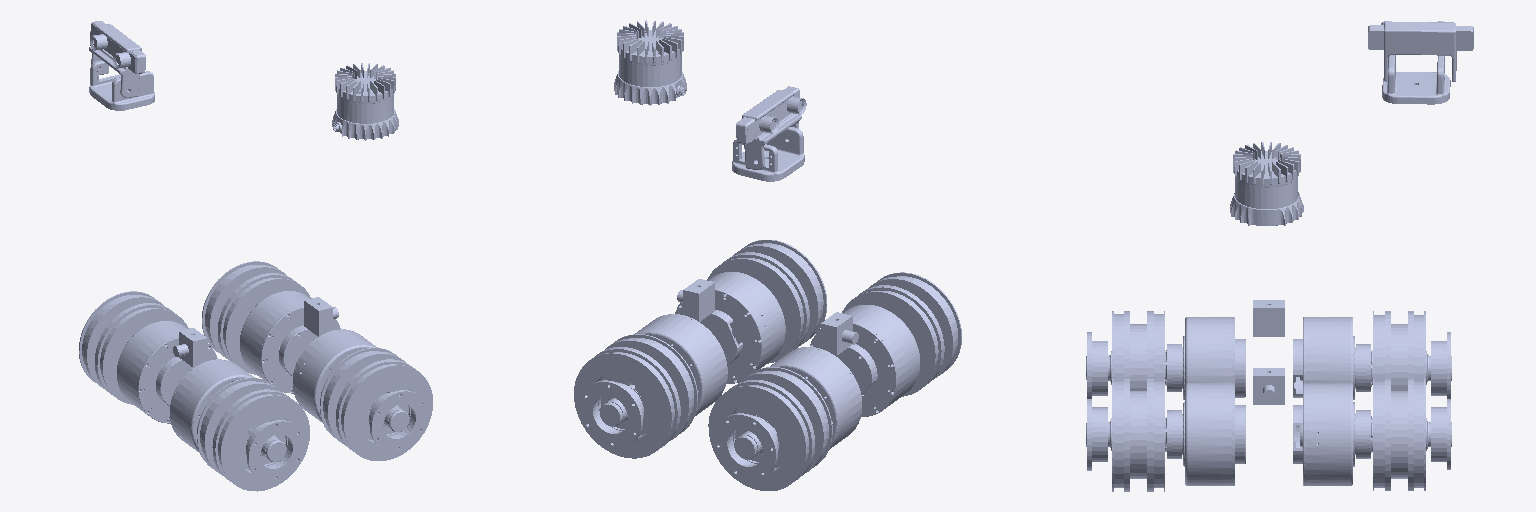
URDF robot description (arm_gazebo):
<robot
  name="arm_gazebo">
  <link name="world">
  <!-- No inertial or visual components -->
  </link>

<!-- Joint connecting world to base_link -->
  <joint name="fixed_joint" type="fixed">
    <parent link="world"/>
    <child link="base_link"/>
    <origin xyz="0 0 0.4" rpy="0 0 0"/>
  </joint>

<!-- Original base_link definition -->
  <link name="base_link">
      <inertial>
        <origin xyz="-0.166544779785204 -0.0149685354954151 -0.175639363682585" rpy="0 0 0" />
        <mass value="150.738658762702" />
        <inertia ixx="1.45050599145453" ixy="0.0257841558527573" ixz="0.0141341146579768"
                iyy="0.53799497159813" iyz="-0.0167036000868276" izz="1.75207985844135" />
      </inertial>
      <visual>
        <origin xyz="0 0 0" rpy="0 0 0" />
        <geometry>
          <mesh filename="package://panda_description/meshes/arm_crawer_meshes/visual/base_link.dae" />
        </geometry>
        <material name="">
          <color rgba="0.792156862745098 0.819607843137255 0.933333333333333 1" />
        </material>
      </visual>
      <collision>
        <origin xyz="0 0 0" rpy="0 0 0" />
        <geometry>
          <mesh filename="package://panda_description/meshes/arm_crawer_meshes/collision/base_link.stl" />
        </geometry>
      </collision>
  </link>
  <link
    name="link_1">
    <inertial>
      <origin
        xyz="2.5713776339753E-05 -0.112526124429538 7.18011637226429E-05"
        rpy="0 0 0" />
      <mass
        value="140.357056498504" />
      <inertia
        ixx="0.156349262310722"
        ixy="0.000120004558843799"
        ixz="-0.000132718117351556"
        iyy="0.269360886360984"
        iyz="-1.4344844220023E-05"
        izz="0.155458190090457" />
    </inertial>
    <visual>
      <origin
        xyz="0 0 0"
        rpy="0 0 0" />
      <geometry>
        <mesh
          filename="package://panda_description/meshes/arm_crawer_meshes/visual/link_1.dae" />
      </geometry>
      <material
        name="">
        <color
          rgba="0.792156862745098 0.819607843137255 0.933333333333333 1" />
      </material>
    </visual>
    <collision>
      <origin
        xyz="0 0 0"
        rpy="0 0 0" />
      <geometry>
        <mesh
          filename="package://panda_description/meshes/arm_crawer_meshes/collision/link_1.stl" />
      </geometry>
    </collision>
  </link>
  <joint
    name="right_front_wheel"
    type="continuous">
    <origin
      xyz="-0.25584 0.030598 -0.31908"
      rpy="0 -0.42439 3.1416" />
    <parent
      link="base_link" />
    <child
      link="link_1" />
    <axis
      xyz="0 1 0" />
    <limit
      lower="0"
      upper="6.24"
      effort="10"
      velocity="10" />
  </joint>
  <link
    name="link_2">
    <inertial>
      <origin
        xyz="2.57137762453112E-05 -0.112526124428818 7.18011636879901E-05"
        rpy="0 0 0" />
      <mass
        value="140.357056499415" />
      <inertia
        ixx="0.15634926231084"
        ixy="0.000120004558878933"
        ixz="-0.000132718117466613"
        iyy="0.269360886361404"
        iyz="-1.43448442214138E-05"
        izz="0.155458190090766" />
    </inertial>
    <visual>
      <origin
        xyz="0 0 0"
        rpy="0 0 0" />
      <geometry>
        <mesh
          filename="package://panda_description/meshes/arm_crawer_meshes/visual/link_2.dae" />
      </geometry>
      <material
        name="">
        <color
          rgba="0.792156862745098 0.819607843137255 0.933333333333333 1" />
      </material>
    </visual>
    <collision>
      <origin
        xyz="0 0 0"
        rpy="0 0 0" />
      <geometry>
        <mesh
          filename="package://panda_description/meshes/arm_crawer_meshes/collision/link_2.stl" />
      </geometry>
    </collision>
  </link>
  <joint
    name="right_back_wheel"
    type="continuous">
    <origin
      xyz="-0.070756 0.030598 -0.31908"
      rpy="0 0.21622 3.1416" />
    <parent
      link="base_link" />
    <child
      link="link_2" />
    <axis
      xyz="0 1 0" />
    <limit
      lower="0"
      upper="6.24"
      effort="10"
      velocity="10" />
  </joint>
  <link
    name="link_3">
    <inertial>
      <origin
        xyz="2.5713776181796E-05 -0.112526124428283 7.18011637134697E-05"
        rpy="0 0 0" />
      <mass
        value="140.357056500094" />
      <inertia
        ixx="0.156349262310969"
        ixy="0.00012000455890453"
        ixz="-0.000132718117407678"
        iyy="0.26936088636172"
        iyz="-1.43448442265719E-05"
        izz="0.155458190090957" />
    </inertial>
    <visual>
      <origin
        xyz="0 0 0"
        rpy="0 0 0" />
      <geometry>
        <mesh
          filename="package://panda_description/meshes/arm_crawer_meshes/visual/link_3.dae" />
      </geometry>
      <material
        name="">
        <color
          rgba="0.792156862745098 0.819607843137255 0.933333333333333 1" />
      </material>
    </visual>
    <collision>
      <origin
        xyz="0 0 0"
        rpy="0 0 0" />
      <geometry>
        <mesh
          filename="package://panda_description/meshes/arm_crawer_meshes/collision/link_3.stl" />
      </geometry>
    </collision>
  </link>
  <joint
    name="left_front_wheel"
    type="continuous">
    <origin
      xyz="-0.25584 -0.024997 -0.31908"
      rpy="0 -0.76081 0" />
    <parent
      link="base_link" />
    <child
      link="link_3" />
    <axis
      xyz="0 1 0" />
    <limit
      lower="0"
      upper="6.24"
      effort="10"
      velocity="10" />
  </joint>
  <link
    name="link_4">
    <inertial>
      <origin
        xyz="2.57137761885406E-05 -0.112526124428341 7.18011637099447E-05"
        rpy="0 0 0" />
      <mass
        value="140.357056500021" />
      <inertia
        ixx="0.156349262310955"
        ixy="0.000120004558901742"
        ixz="-0.000132718117415487"
        iyy="0.269360886361686"
        iyz="-1.43448442256035E-05"
        izz="0.155458190090937" />
    </inertial>
    <visual>
      <origin
        xyz="0 0 0"
        rpy="0 0 0" />
      <geometry>
        <mesh
          filename="package://panda_description/meshes/arm_crawer_meshes/visual/link_4.dae" />
      </geometry>
      <material
        name="">
        <color
          rgba="0.792156862745098 0.819607843137255 0.933333333333333 1" />
      </material>
    </visual>
    <collision>
      <origin
        xyz="0 0 0"
        rpy="0 0 0" />
      <geometry>
        <mesh
          filename="package://panda_description/meshes/arm_crawer_meshes/collision/link_4.stl" />
      </geometry>
    </collision>
  </link>
  <joint
    name="left_back_wheel"
    type="continuous">
    <origin
      xyz="-0.070756 -0.024997 -0.31908"
      rpy="0 0.30744 0" />
    <parent
      link="base_link" />
    <child
      link="link_4" />
    <axis
      xyz="0 1 0" />
    <limit
      lower="0"
      upper="6.24"
      effort="10"
      velocity="10" />
  </joint>


<!-- Link5 motor1 -->


  <link
    name="link_5">
    <inertial>
      <origin
        xyz="-0.0200799823614145 -3.20495466103743E-05 0.00567272606006936"
        rpy="0 0 0" />
      <mass
        value="2.59097198613766" />
      <inertia
        ixx="0.00163707671968947"
        ixy="4.05834569748E-06"
        ixz="-0.000187935606363205"
        iyy="0.00178436896126707"
        iyz="3.66965892711528E-06"
        izz="0.00152277803547436" />
    </inertial>
    <visual>
      <origin
        xyz="0 0 0"
        rpy="0 0 0" />
      <geometry>
        <mesh
          filename="package://panda_description/meshes/arm_crawer_meshes/visual/link_5.dae" />
      </geometry>
      <material
        name="">
        <color
          rgba="0.792156862745098 0.819607843137255 0.933333333333333 1" />
      </material>
    </visual>
    <collision>
      <origin
        xyz="0 0 0"
        rpy="0 0 0" />
      <geometry>
        <mesh
          filename="package://panda_description/meshes/arm_crawer_meshes/collision/link_5.stl" />
      </geometry>
    </collision>
  </link>

  
  <joint
    name="base_joint"
    type="revolute">
    <origin
      xyz="-0.2458 -0.1472 0"
      rpy="0 0 0" />
    <parent
      link="base_link" />
    <child
      link="link_5" />
    <axis
      xyz="0 0 1" />
    <limit
      lower="0"
      upper="6.24"
      effort="10"
      velocity="10" />
  </joint>


  
  <link
    name="link_6">
    <inertial>
      <origin
        xyz="0.0419734207030258 0.240056643422739 0.103988160889993"
        rpy="0 0 0" />
      <mass
        value="3.11397900589646" />
      <inertia
        ixx="0.0105893542585918"
        ixy="5.6511164525869E-08"
        ixz="-3.18900925698064E-08"
        iyy="0.00153774441920444"
        iyz="-9.98026406358191E-07"
        izz="0.0112219847238024" />
    </inertial>
    <visual>
      <origin
        xyz="0 0 0"
        rpy="0 0 0" />
      <geometry>
        <mesh
          filename="package://panda_description/meshes/arm_crawer_meshes/visual/link_6.dae" />
      </geometry>
      <material
        name="">
        <color
          rgba="0.792156862745098 0.819607843137255 0.933333333333333 1" />
      </material>
    </visual>
    <collision>
      <origin
        xyz="0 0 0"
        rpy="0 0 0" />
      <geometry>
        <mesh
          filename="package://panda_description/meshes/arm_crawer_meshes/collision/link_6.stl" />
      </geometry>
    </collision>
  </link>


  <joint
    name="shoulder_joint"
    type="revolute">
    <origin
      xyz="0 0 0"
      rpy="0 0 0" />
    <parent
      link="link_5" />
    <child
      link="link_6" />
    <axis
      xyz="0 0 1" />
    <limit
      lower="0"
      upper="6.24"
      effort="10"
      velocity="10" />
  </joint>



  <link
    name="link_7">
    <inertial>
      <origin
        xyz="1.65885532732446E-06 0.16725738983806 0.0588578977856613"
        rpy="0 0 0" />
      <mass
        value="3.01078180932307" />
      <inertia
        ixx="0.00717136557548414"
        ixy="1.01381336321339E-07"
        ixz="2.0734451611804E-08"
        iyy="0.00137417115863493"
        iyz="-1.82688382332719E-05"
        izz="0.00774289023463593" />
    </inertial>
    <visual>
      <origin
        xyz="0 0 0"
        rpy="0 0 0" />
      <geometry>
        <mesh
          filename="package://panda_description/meshes/arm_crawer_meshes/visual/link_7.dae" />
      </geometry>
      <material
        name="">
        <color
          rgba="0.792156862745098 0.819607843137255 0.933333333333333 1" />
      </material>
    </visual>
    <collision>
      <origin
        xyz="0 0 0"
        rpy="0 0 0" />
      <geometry>
        <mesh
          filename="package://panda_description/meshes/arm_crawer_meshes/collision/link_7.stl" />
      </geometry>
    </collision>
  </link>
  <joint
    name="elbow_joint"
    type="revolute">
    <origin
      xyz="0.041975 0.31418 0.10675"
      rpy="0 0 0" />
    <parent
      link="link_6" />
    <child
      link="link_7" />
    <axis
      xyz="0 0 1" />
    <limit
      lower="0"
      upper="6.24"
      effort="10"
      velocity="10" />
  </joint>
  <link
    name="link_8">
    <inertial>
      <origin
        xyz="-0.0858543822698208 -0.0557999112908276 -0.0797732522243653"
        rpy="0 0 0" />
      <mass
        value="4.37068575464211" />
      <inertia
        ixx="0.00394924490624352"
        ixy="0.000633665917948952"
        ixz="0.000829826200053041"
        iyy="0.00432436117427707"
        iyz="-0.000567522159557799"
        izz="0.00573354495320955" />
    </inertial>
    <visual>
      <origin
        xyz="0 0 0"
        rpy="0 0 0" />
      <geometry>
        <mesh
          filename="package://panda_description/meshes/arm_crawer_meshes/visual/link_8.dae" />
      </geometry>
      <material
        name="">
        <color
          rgba="0.792156862745098 0.819607843137255 0.933333333333333 1" />
      </material>
    </visual>
    <collision>
      <origin
        xyz="0 0 0"
        rpy="0 0 0" />
      <geometry>
        <mesh
          filename="package://panda_description/meshes/arm_crawer_meshes/collision/link_8.stl" />
      </geometry>
    </collision>
  </link>
  <joint
    name="tool_joint"
    type="revolute">
    <origin
      xyz="0 0.23 0.030517"
      rpy="3.1416 0.5236 -1.5675" />
    <parent
      link="link_7" />
    <child
      link="link_8" />
    <axis
      xyz="-0.5 0 -0.86603" />
    <limit
      lower="0"
      upper="6.24"
      effort="10"
      velocity="10" />
  </joint>
  <link
    name="link_9">
    <inertial>
      <origin
        xyz="-0.00449994286677297 -0.0155887179553093 -3.59350118429858E-05"
        rpy="0 0 0" />
      <mass
        value="0.0480833518283809" />
      <inertia
        ixx="2.51444523479028E-05"
        ixy="-2.25271341933972E-06"
        ixz="-4.22764211638633E-08"
        iyy="5.10291199771401E-05"
        iyz="-1.79894029477722E-08"
        izz="3.86814940097731E-05" />
    </inertial>
    <visual>
      <origin
        xyz="0 0 0"
        rpy="0 0 0" />
      <geometry>
        <mesh
          filename="package://panda_description/meshes/arm_crawer_meshes/visual/link_9.dae" />
      </geometry>
      <material
        name="">
        <color
          rgba="0.792156862745098 0.819607843137255 0.933333333333333 1" />
      </material>
    </visual>
    <collision>
      <origin
        xyz="0 0 0"
        rpy="0 0 0" />
      <geometry>
        <mesh
          filename="package://panda_description/meshes/arm_crawer_meshes/collision/link_9.stl" />
      </geometry>
    </collision>
  </link>
  <joint
    name="gimble_pan"
    type="continuous">
    <origin
      xyz="-0.2641 0.1766 0.037"
      rpy="-1.5708 0 1.5502" />
    <parent
      link="base_link" />
    <child
      link="link_9" />
    <axis
      xyz="0 1 0" />
    <limit
      lower="0"
      upper="6.24"
      effort="10"
      velocity="10" />
  </joint>
  <link
    name="link_10">
    <inertial>
      <origin
        xyz="0.00424103377063823 -0.0373425165285303 0.00923924122391706"
        rpy="0 0 0" />
      <mass
        value="0.093381607372632" />
      <inertia
        ixx="1.9402204844051E-05"
        ixy="2.51302602284872E-07"
        ixz="7.82292028293565E-07"
        iyy="0.000107793646510494"
        iyz="1.41515641651246E-06"
        izz="0.000116316361496263" />
    </inertial>
    <visual>
      <origin
        xyz="0 0 0"
        rpy="0 0 0" />
      <geometry>
        <mesh
          filename="package://panda_description/meshes/arm_crawer_meshes/visual/link_10.dae" />
      </geometry>
      <material
        name="">
        <color
          rgba="0.792156862745098 0.819607843137255 0.933333333333333 1" />
      </material>
    </visual>
    <collision>
      <origin
        xyz="0 0 0"
        rpy="0 0 0" />
      <geometry>
        <mesh
          filename="package://panda_description/meshes/arm_crawer_meshes/collision/link_10.stl" />
      </geometry>
    </collision>
  </link>
  <joint
    name="gimble_tilt"
    type="continuous">
    <origin
      xyz="0 -0.026 0.011"
      rpy="0.390908342537332 0 0" />
    <parent
      link="link_9" />
    <child
      link="link_10" />
    <axis
      xyz="-1 0 0" />
    <limit
      lower="0"
      upper="3.14"
      effort="10"
      velocity="10" />
  </joint>
  <link
    name="link_11">
    <inertial>
      <origin
        xyz="-0.000134603453894468 -1.7938121510408E-07 0.0343909321363421"
        rpy="0 0 0" />
      <mass
        value="1.19369572408989" />
      <inertia
        ixx="0.000884183147895108"
        ixy="3.10028354636587E-10"
        ixz="-3.55354539341675E-06"
        iyy="0.000881765350794011"
        iyz="-6.28658511410729E-09"
        izz="0.000901676662611668" />
    </inertial>
    <visual>
      <origin
        xyz="0 0 0"
        rpy="0 0 0" />
      <geometry>
        <mesh
          filename="package://panda_description/meshes/arm_crawer_meshes/visual/link_11.dae" />
      </geometry>
      <material
        name="">
        <color
          rgba="0.792156862745098 0.819607843137255 0.933333333333333 1" />
      </material>
    </visual>
    <collision>
      <origin
        xyz="0 0 0"
        rpy="0 0 0" />
      <geometry>
        <mesh
          filename="package://panda_description/meshes/arm_crawer_meshes/collision/link_11.stl" />
      </geometry>
    </collision>
  </link>
  <joint
    name="lidar"
    type="fixed">
    <origin
      xyz="0 0 0"
      rpy="0 0 0" />
    <parent
      link="base_link" />
    <child
      link="link_11" />
    <axis
      xyz="0 0 0" />
  </joint>
  <link
    name="link_12">
    <inertial>
      <origin
        xyz="-0.0245357350446695 0 -4.76362472955072E-05"
        rpy="0 0 0" />
      <mass
        value="0.0334900440310418" />
      <inertia
        ixx="7.29916982861382E-06"
        ixy="2.30136210703002E-22"
        ixz="-2.33600048224526E-09"
        iyy="5.76932274057022E-06"
        iyz="2.58286992984894E-21"
        izz="5.79537414459012E-06" />
    </inertial>
    <visual>
      <origin
        xyz="0 0 0"
        rpy="0 0 0" />
      <geometry>
        <mesh
          filename="package://panda_description/meshes/arm_crawer_meshes/visual/link_12.dae" />
      </geometry>
      <material
        name="">
        <color
          rgba="0.792156862745098 0.819607843137255 0.933333333333333 1" />
      </material>
    </visual>
    <collision>
      <origin
        xyz="0 0 0"
        rpy="0 0 0" />
      <geometry>
        <mesh
          filename="package://panda_description/meshes/arm_crawer_meshes/collision/link_12.stl" />
      </geometry>
    </collision>
  </link>
  <joint
    name="front_camera"
    type="fixed">
    <origin
      xyz="-0.2838 0.0028 -0.25555"
      rpy="0 0 3.1416" />
    <parent
      link="base_link" />
    <child
      link="link_12" />
    <axis
      xyz="0 0 0" />
  </joint>
  <link
    name="link_13">
    <inertial>
      <origin
        xyz="-0.0245357350446695 0 -4.76362472955072E-05"
        rpy="0 0 0" />
      <mass
        value="0.0334900440310418" />
      <inertia
        ixx="7.29916982861381E-06"
        ixy="1.50882882609237E-21"
        ixz="-2.33600048224489E-09"
        iyy="5.76932274057022E-06"
        iyz="9.11303531296866E-22"
        izz="5.79537414459011E-06" />
    </inertial>
    <visual>
      <origin
        xyz="0 0 0"
        rpy="0 0 0" />
      <geometry>
        <mesh
          filename="package://panda_description/meshes/arm_crawer_meshes/visual/link_13.dae" />
      </geometry>
      <material
        name="">
        <color
          rgba="0.792156862745098 0.819607843137255 0.933333333333333 1" />
      </material>
    </visual>
    <collision>
      <origin
        xyz="0 0 0"
        rpy="0 0 0" />
      <geometry>
        <mesh
          filename="package://panda_description/meshes/arm_crawer_meshes/collision/link_13.stl" />
      </geometry>
    </collision>
  </link>
  <joint
    name="back_camera"
    type="fixed">
    <origin
      xyz="-0.0428000000001037 0.00280000000000036 -0.255549999999998"
      rpy="0 0 0" />
    <parent
      link="base_link" />
    <child
      link="link_13" />
    <axis
      xyz="0 0 0" />
  </joint>
</robot>

--- Facts derived from the render (not from the file) ---
The picture shows the robot from 3 angles, left to right: view 1: azimuth 30°, elevation 25°; view 2: azimuth 150°, elevation 25°; view 3: azimuth 270°, elevation 25°; orthographic projection.
Robot: arm_gazebo — 15 links, 14 joints (4 revolute, 6 continuous, 4 fixed); root link world; default pose: all joints at 0.
Visible links, largest first — view 1: link_4, link_3, link_2, link_1, link_11, link_10, link_9, link_12, link_13; view 2: link_2, link_1, link_4, link_3, link_11, link_10, link_9, link_12, link_13; view 3: link_4, link_2, link_3, link_1, link_11, link_10, link_9, link_12, link_13.
Boxes of the visible links, box(x1,y1,x2,y2) form: link_4: box(293, 329, 432, 460); link_3: box(170, 359, 309, 491); link_2: box(202, 261, 340, 393); link_1: box(79, 291, 217, 423); link_11: box(332, 63, 398, 140); link_10: box(89, 21, 145, 97); link_9: box(89, 60, 154, 110); link_12: box(173, 328, 207, 367); link_13: box(304, 297, 338, 336); link_2: box(574, 314, 727, 458); link_1: box(708, 347, 861, 490); link_4: box(675, 240, 826, 383); link_3: box(810, 272, 961, 416); link_11: box(614, 20, 686, 105); link_10: box(736, 86, 806, 169); link_9: box(732, 127, 804, 181); link_12: box(821, 312, 858, 355); link_13: box(677, 279, 714, 321); link_4: box(1086, 377, 1245, 491); link_2: box(1293, 377, 1451, 490); link_3: box(1086, 311, 1245, 399); link_1: box(1293, 311, 1451, 399); link_11: box(1230, 142, 1303, 225); link_10: box(1368, 21, 1473, 81); link_9: box(1382, 55, 1450, 104); link_12: box(1253, 300, 1284, 336); link_13: box(1253, 368, 1284, 404).
Size in the robot's own frame: 0.3635 by 0.4573 by 0.5086 metres.
Meshes: 14 distinct files referenced, 9 mesh visuals loaded (9 Collada DAE); not drawn: 5 (reference not matched to a file when rendering).